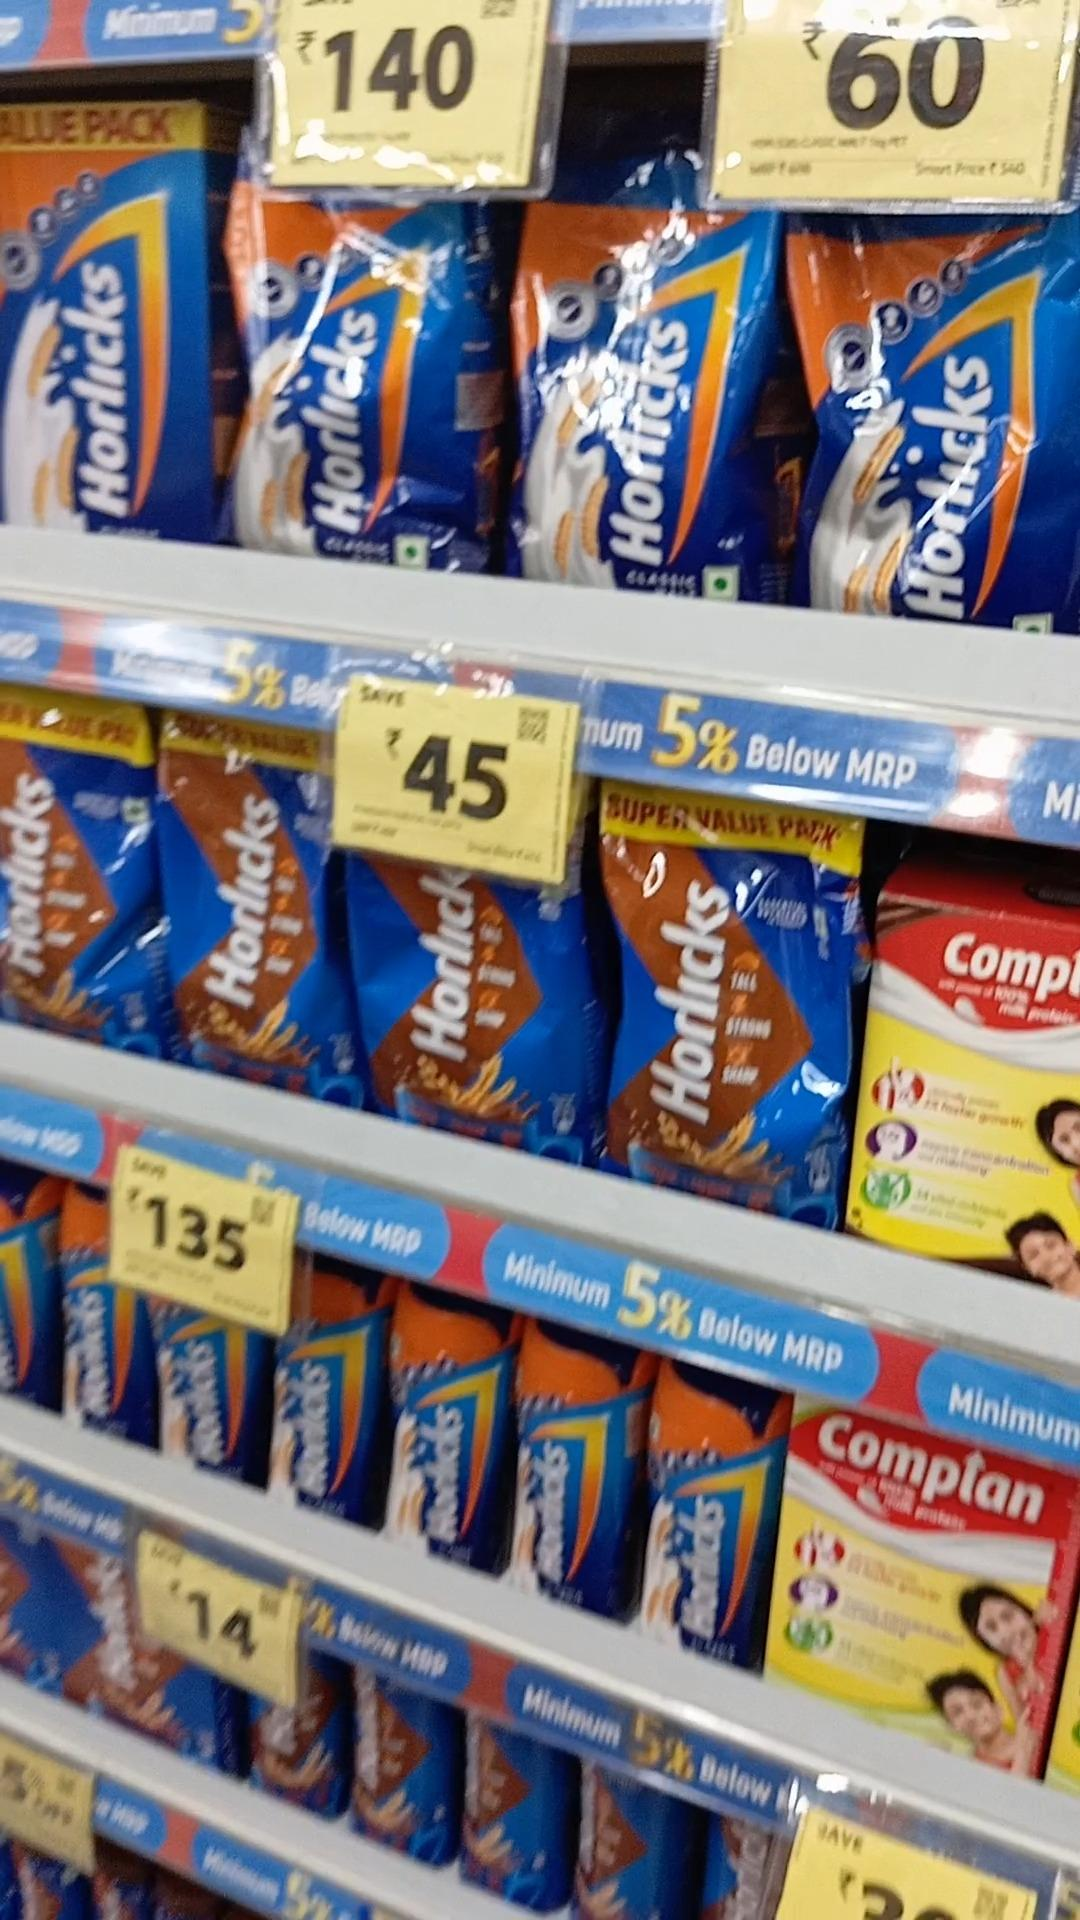COMPLAN_PISTA_BADAM_500_GMS_PACK: (781, 1429, 1046, 1750)
HORLICK_CHOCOLATE_750_G_POUCH: (611, 785, 851, 1216), (355, 861, 583, 1146), (160, 719, 331, 1081), (4, 691, 144, 1047)
HORLICK_CLASSIC_MALT_500_G_JAR: (645, 1364, 761, 1662), (521, 1324, 634, 1618), (388, 1298, 501, 1557), (273, 1251, 375, 1522)
HORLICK_CLASSIC_MALT_750_G_POUCH: (791, 224, 1080, 626), (509, 216, 771, 603), (235, 189, 493, 568)
